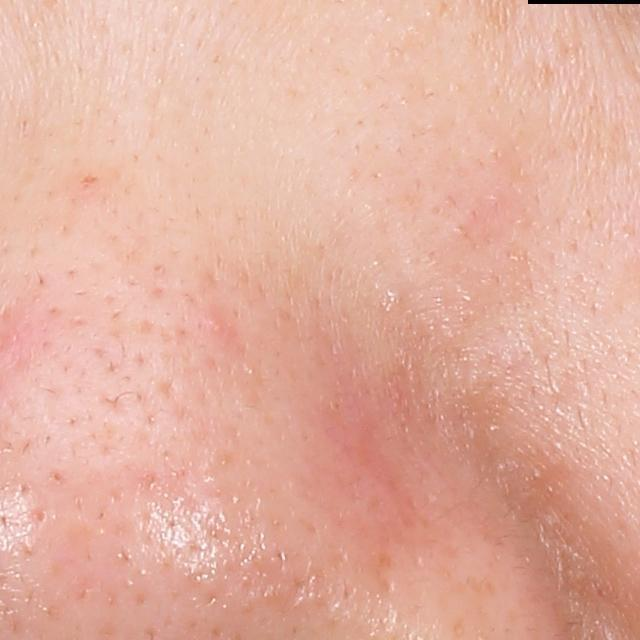papule: (202, 309, 229, 338)
